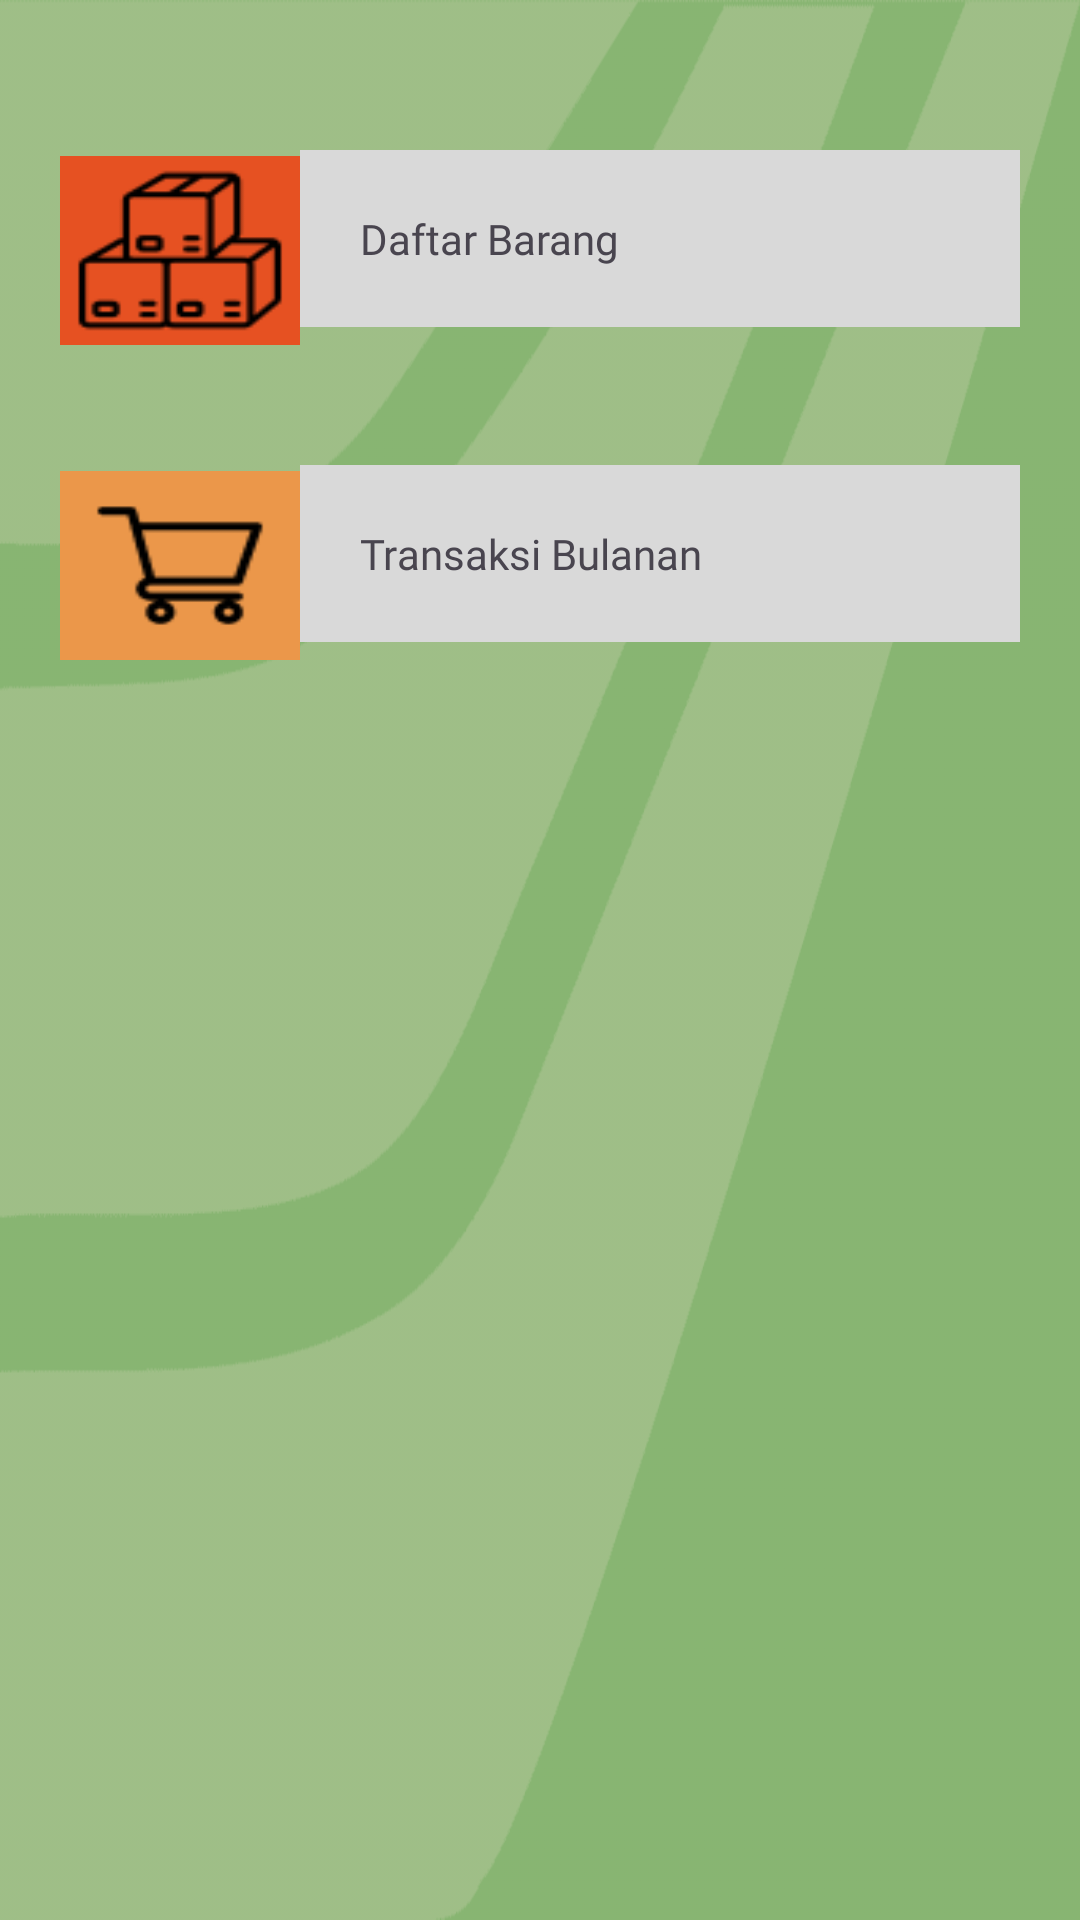

Icon click points for this 1080px x 1920px phone screenshot, format (x,y):
kardusjadi: (180,250)
trolijadi: (180,565)
